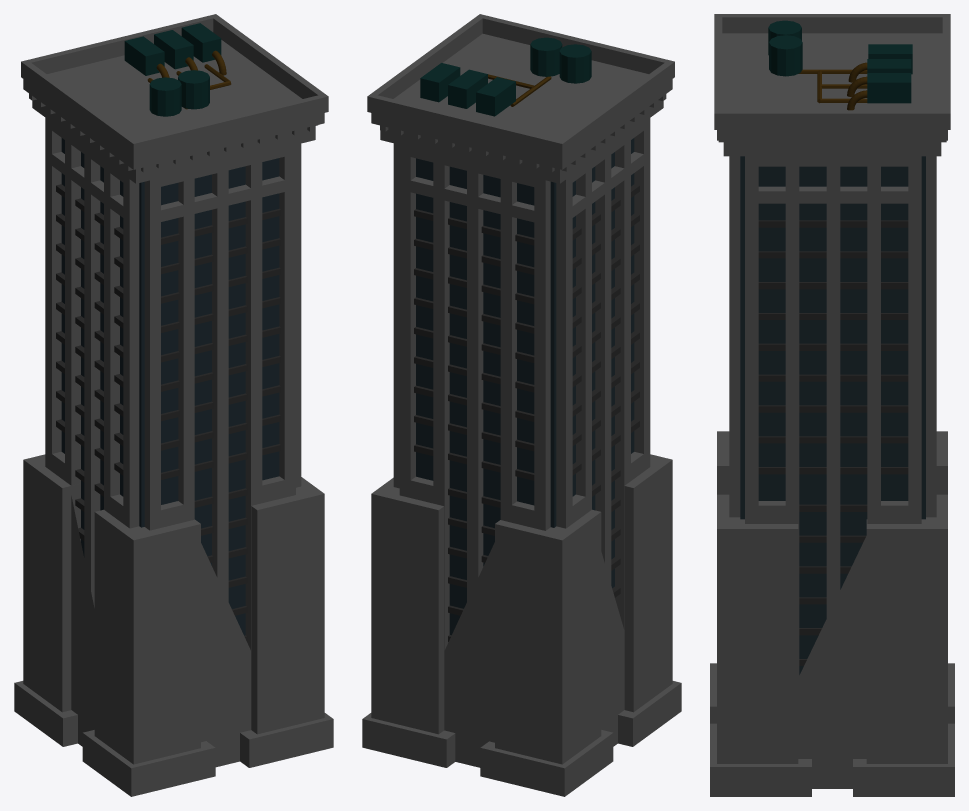
Rendered from newYorkStyle.obj.
3 views of the same model, side by side, from view 1: azimuth 30°, elevation 25°; view 2: azimuth 150°, elevation 25°; view 3: azimuth 270°, elevation 25° (orthographic). The views are drawn at different scales.
Visible parts, largest first — view 1: Mesh_Mesh_se_4.003, Mesh_Mesh_se_4.004, Mesh_Mesh_se_4.001, Mesh_Mesh_se_4.000, Mesh_Mesh_se_4.002; view 2: Mesh_Mesh_se_4.003, Mesh_Mesh_se_4.004, Mesh_Mesh_se_4.001, Mesh_Mesh_se_4.000; view 3: Mesh_Mesh_se_4.003, Mesh_Mesh_se_4.004, Mesh_Mesh_se_4.001, Mesh_Mesh_se_4.000, Mesh_Mesh_se_4.002.
Part boxes in pixels (left/top/right/bottom): Mesh_Mesh_se_4.003: left=14, top=14, right=333, bottom=796; Mesh_Mesh_se_4.004: left=61, top=138, right=279, bottom=635; Mesh_Mesh_se_4.001: left=56, top=184, right=280, bottom=641; Mesh_Mesh_se_4.000: left=124, top=23, right=221, bottom=116; Mesh_Mesh_se_4.002: left=147, top=50, right=231, bottom=109; Mesh_Mesh_se_4.003: left=362, top=14, right=681, bottom=796; Mesh_Mesh_se_4.004: left=416, top=138, right=634, bottom=635; Mesh_Mesh_se_4.001: left=414, top=184, right=639, bottom=641; Mesh_Mesh_se_4.000: left=420, top=37, right=591, bottom=116; Mesh_Mesh_se_4.003: left=710, top=14, right=954, bottom=796; Mesh_Mesh_se_4.004: left=740, top=156, right=925, bottom=674; Mesh_Mesh_se_4.001: left=758, top=220, right=908, bottom=665; Mesh_Mesh_se_4.000: left=768, top=20, right=912, bottom=103; Mesh_Mesh_se_4.002: left=798, top=62, right=867, bottom=110.
Size of the model in its own units: 212 by 669 by 212.
